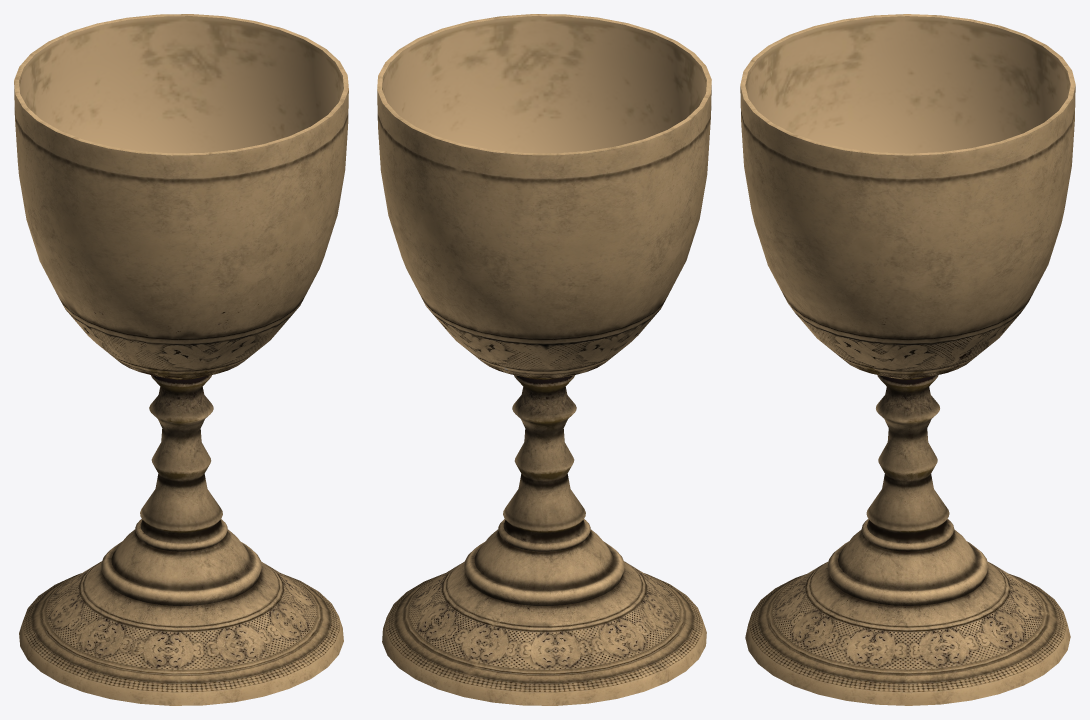
File: brass-goblet.glb
The picture shows the model from 3 angles, left to right: view 1: azimuth 30°, elevation 25°; view 2: azimuth 150°, elevation 25°; view 3: azimuth 270°, elevation 25°; orthographic projection.
Visible parts, largest first — view 1: brass_goblet_01; view 2: brass_goblet_01; view 3: brass_goblet_01.
Boxes of the visible parts, left/top/right/bottom form: brass_goblet_01: left=14, top=14, right=348, bottom=705; brass_goblet_01: left=377, top=14, right=711, bottom=705; brass_goblet_01: left=740, top=14, right=1075, bottom=705.
Bounding box in the file's own units: 0.1497 × 0.272 × 0.1497.
Materials: 1 (1 with a texture image).
